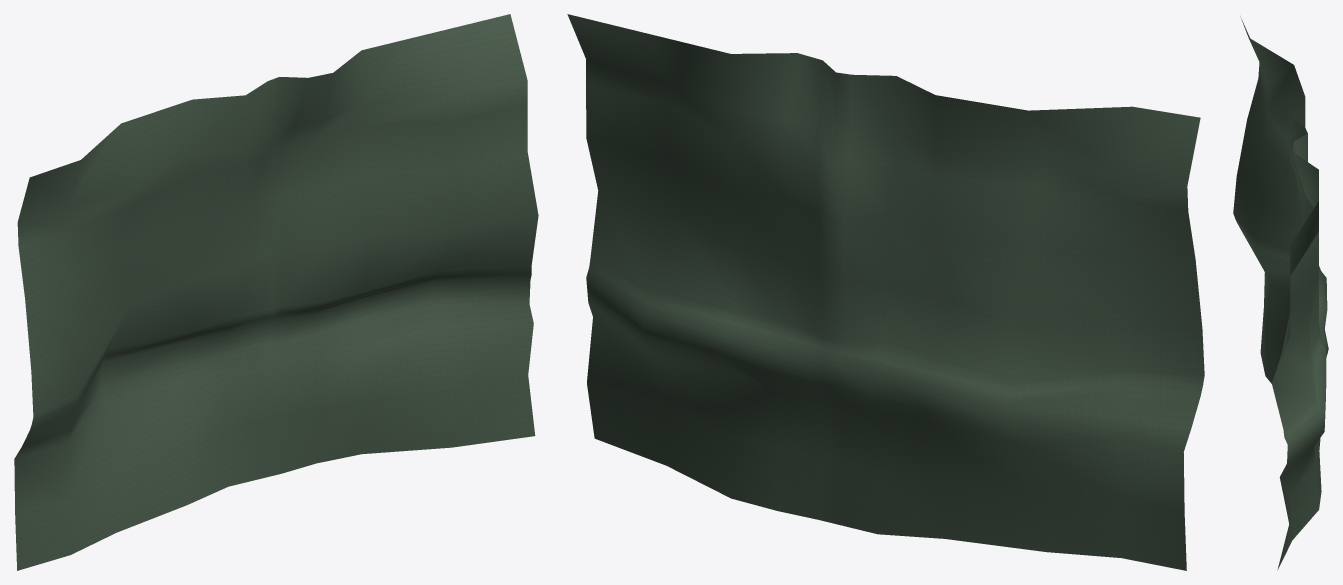
Rendered from terrain.glb.
3 views of the same model, side by side, from view 1: azimuth 30°, elevation 25°; view 2: azimuth 150°, elevation 25°; view 3: azimuth 270°, elevation 25° (orthographic). The views are drawn at different scales.
Visible parts, largest first — view 1: terrain; view 2: terrain; view 3: terrain.
Part boxes in pixels (x1,y1,x2,y2): terrain: [14, 14, 538, 570]; terrain: [567, 14, 1204, 570]; terrain: [1233, 16, 1328, 569].
Size of the model in its own units: 340 by 248 by 63.15.
Materials: 1 (1 with a texture image).
